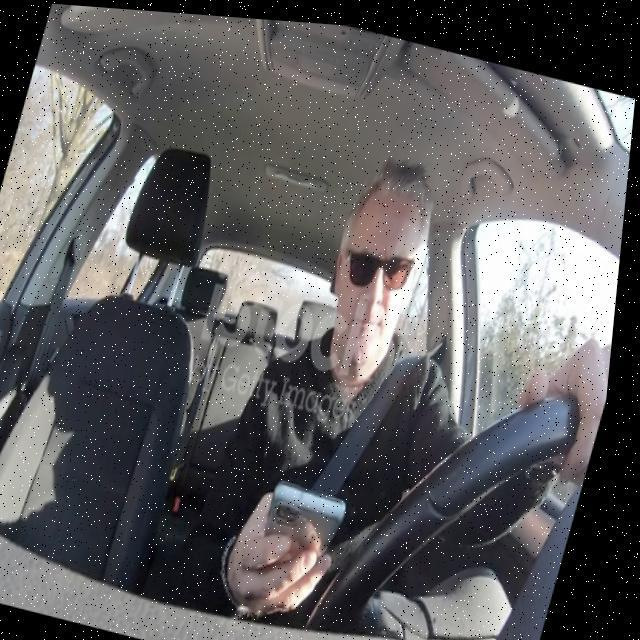PhoneCall: (257, 472, 359, 589)
